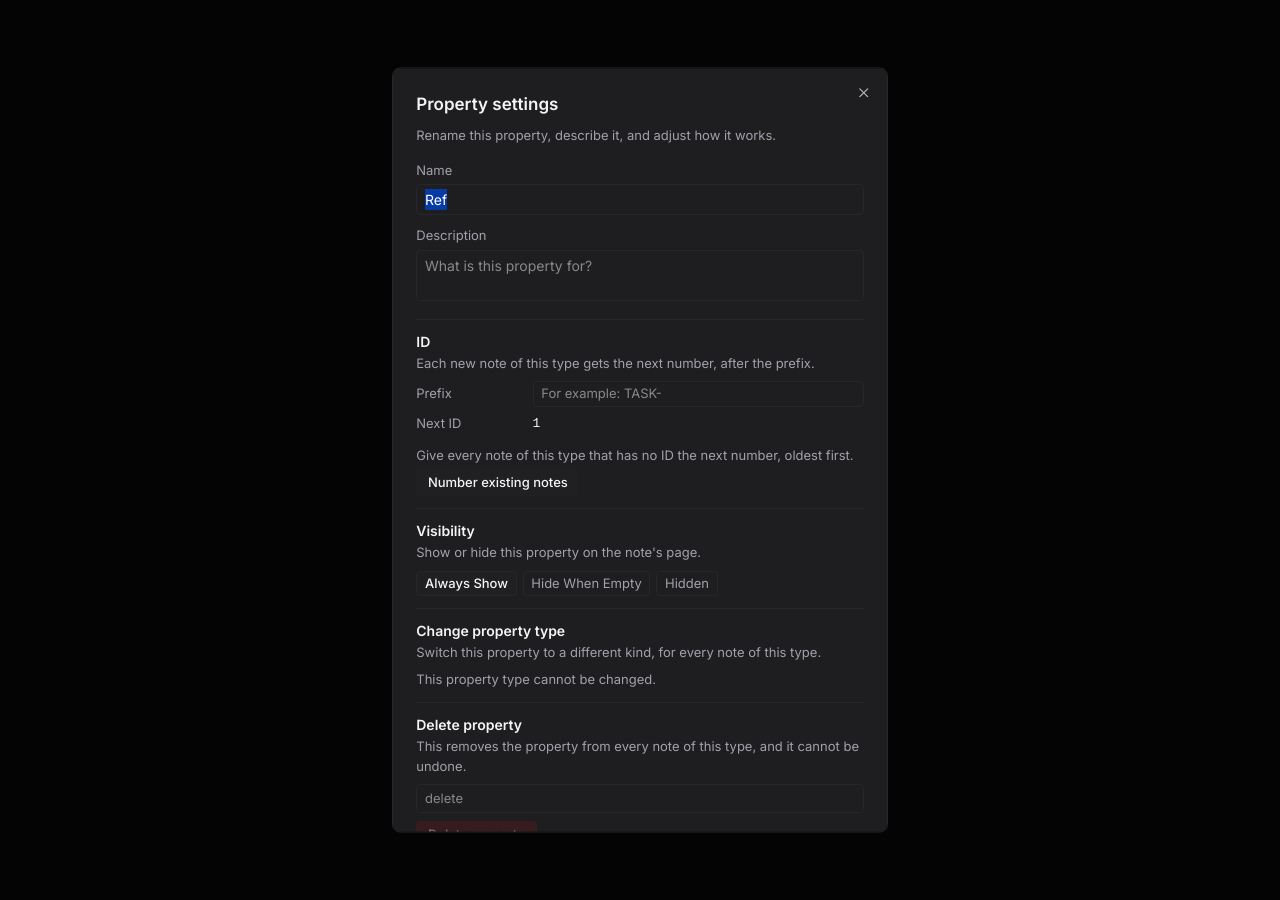
it: UniqueIdSection › a revision conflict reloads the index and says so
Click the button "Number existing notes" at [498, 482], box [416,468,579,496]
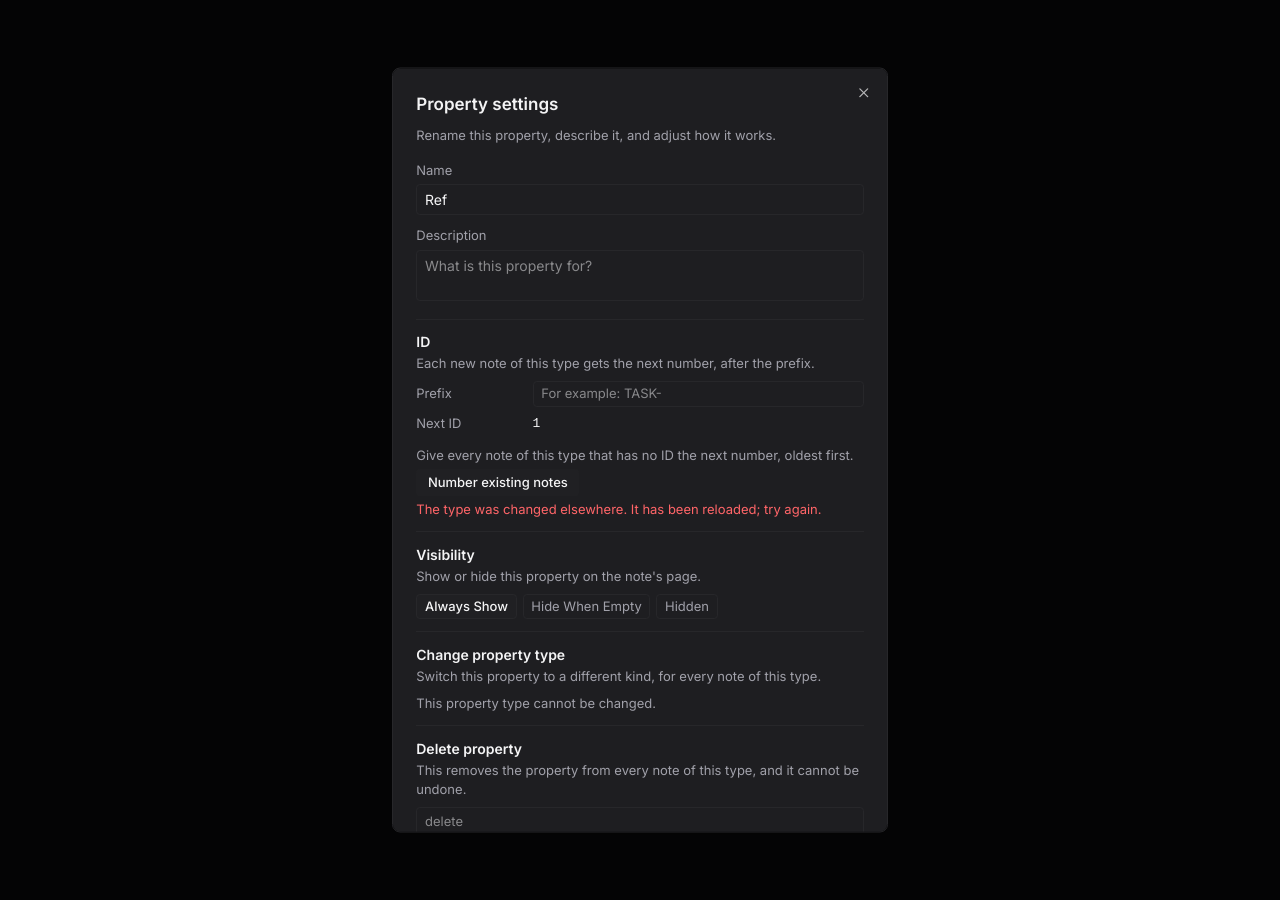
Check: the text "The type was changed elsewhere. It has been reloaded; try again." is shown, box [416,500,864,519]
